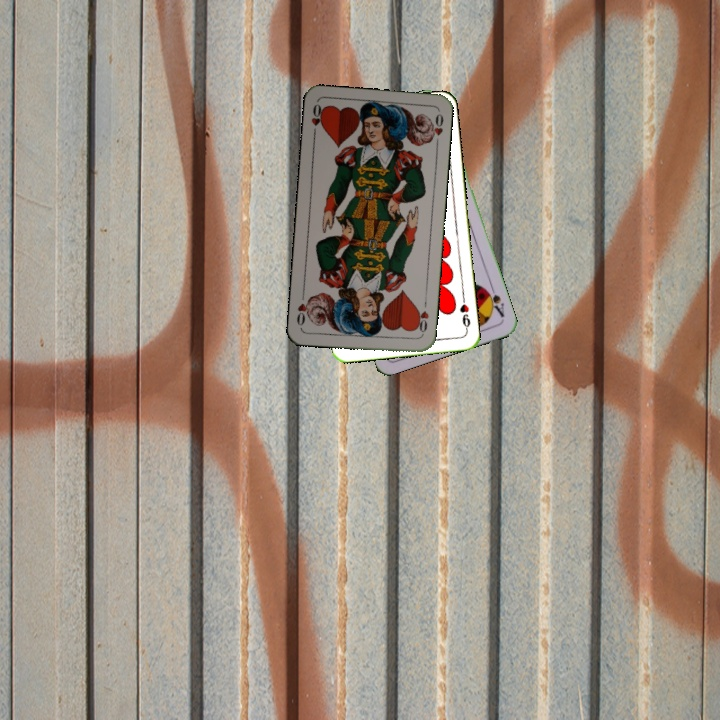H9: (456, 293, 473, 334)
HO: (307, 100, 327, 141), (412, 297, 431, 338)
SA: (481, 282, 507, 320)
